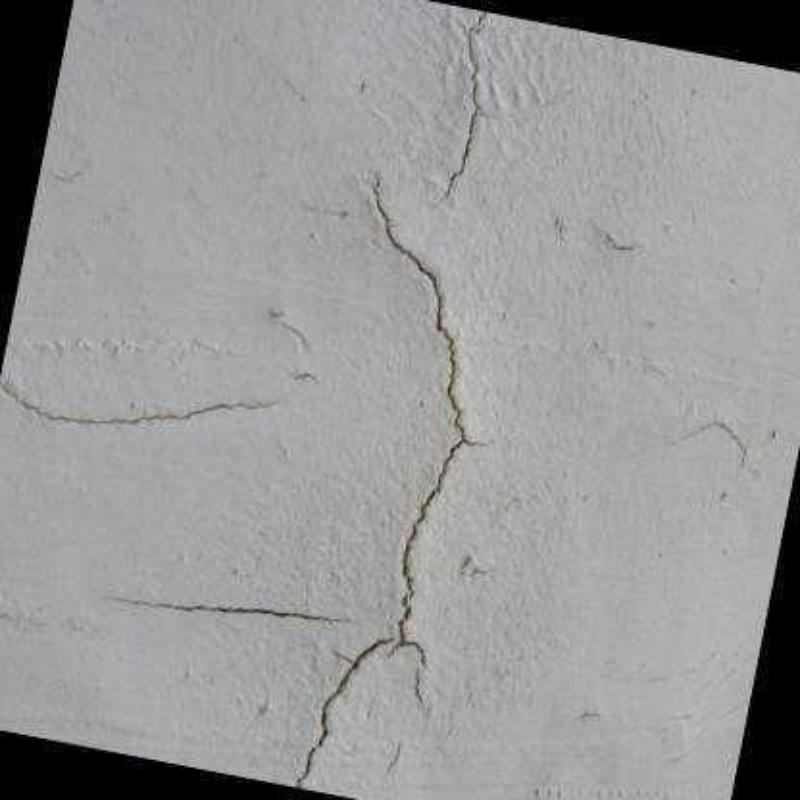crack: (291, 168, 490, 789), (3, 369, 286, 436), (101, 588, 356, 628), (441, 10, 493, 204)
